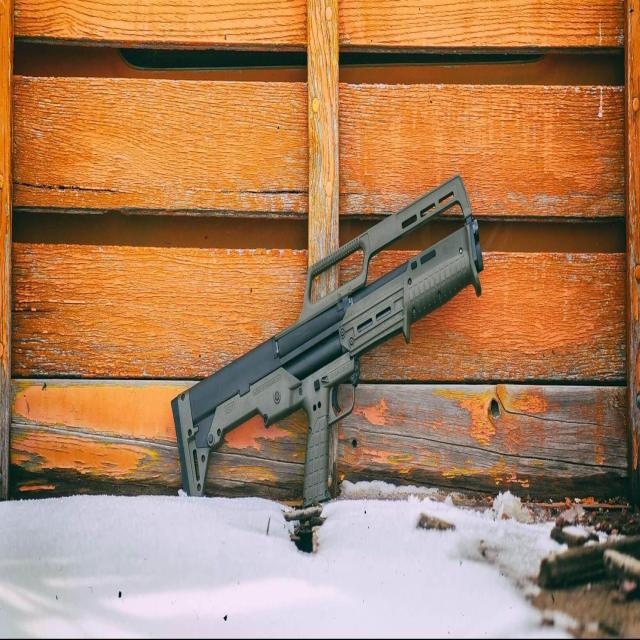weapon: (170, 164, 490, 508)
